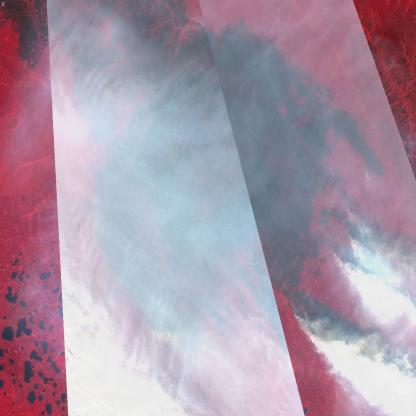fire: (284, 286, 316, 334), (343, 196, 357, 219), (326, 248, 338, 268), (347, 231, 354, 247)
